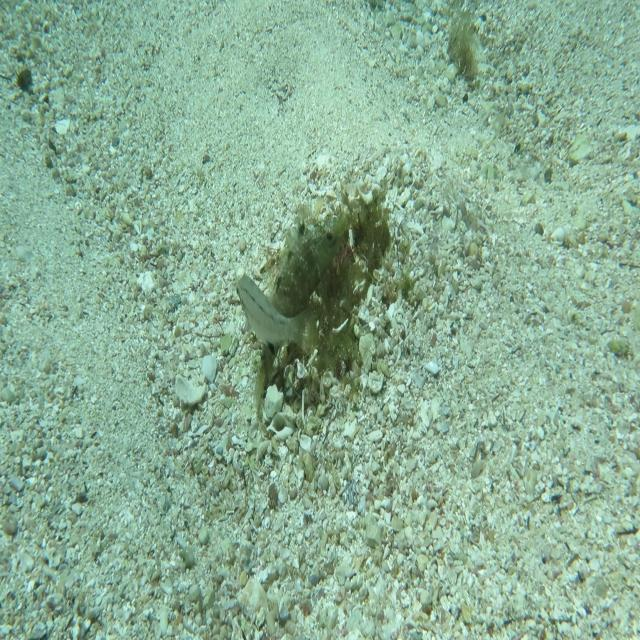FAN: (249, 210, 351, 416)
core_nest: (313, 197, 372, 255)
female: (236, 271, 322, 359)
nest: (263, 174, 407, 414)
